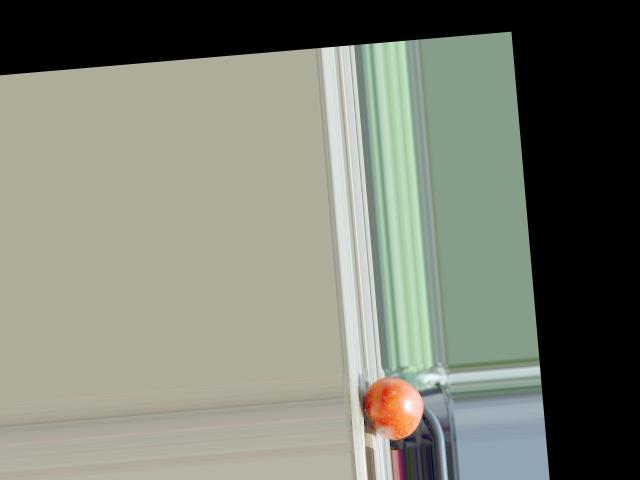tomato: (364, 373, 426, 441)
